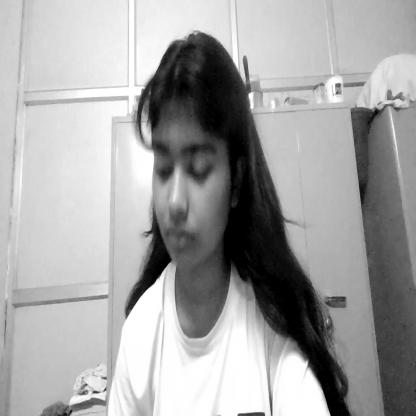Distracted: (140, 37, 246, 289)
